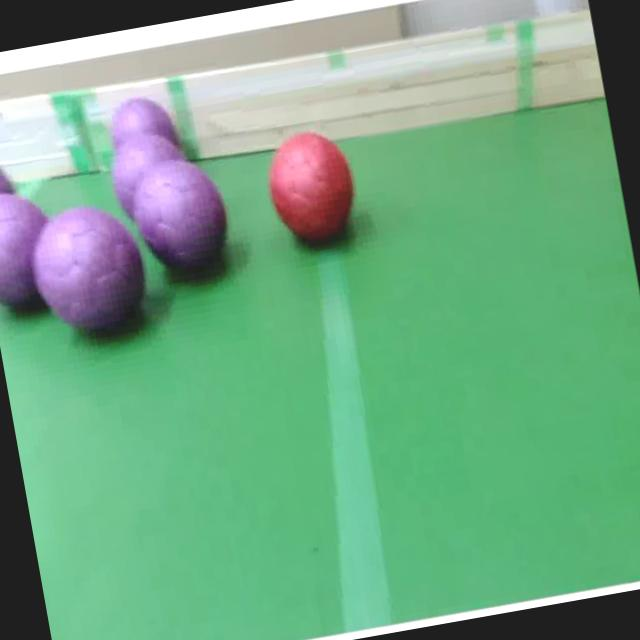purple_ball: (30, 200, 153, 348), (122, 158, 236, 281), (0, 187, 65, 316), (106, 123, 189, 220), (103, 88, 174, 152), (0, 148, 13, 203)
